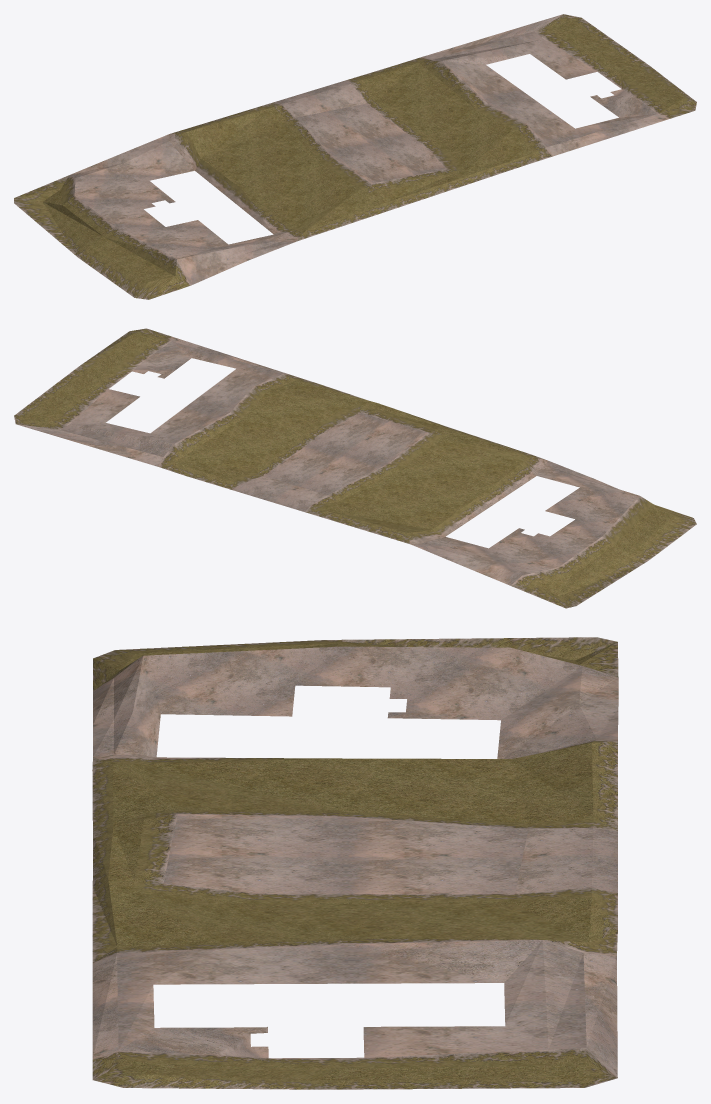
Rendered from land_sfn17a.obj.
3 renders of one model, top to bottom at view 1: azimuth 30°, elevation 25°; view 2: azimuth 150°, elevation 25°; view 3: azimuth 270°, elevation 25°, orthographic. The views are drawn at different scales.
Visible parts, largest first — view 1: land_SFN17a; view 2: land_SFN17a; view 3: land_SFN17a.
Boxes of the visible parts, bbox=[...] form: land_SFN17a: bbox=[14, 14, 696, 299]; land_SFN17a: bbox=[14, 328, 696, 608]; land_SFN17a: bbox=[92, 637, 618, 1089].
Bounding box in the file's own units: 45.08 × 4.47 × 17.99.
3 materials, 3 textured.
